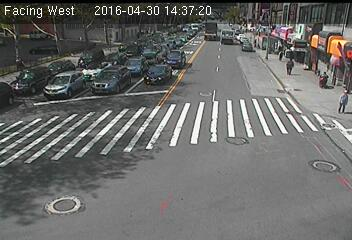neg: (82, 31, 103, 58), (107, 52, 120, 70), (107, 32, 119, 49), (45, 37, 56, 51), (169, 35, 180, 49), (180, 33, 190, 46), (164, 40, 173, 53), (123, 49, 132, 61), (125, 28, 132, 38)
pos: (335, 88, 351, 115), (8, 53, 25, 76), (282, 56, 298, 78), (276, 47, 288, 63)
